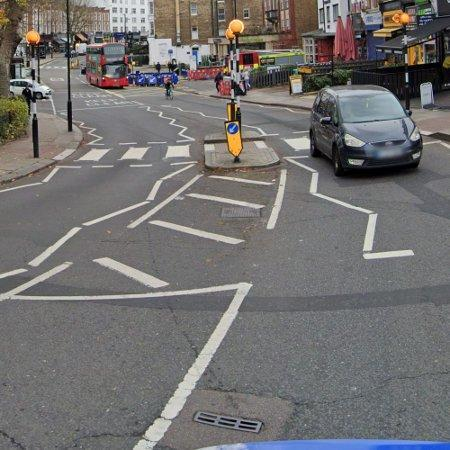buses: (86, 42, 128, 87)
